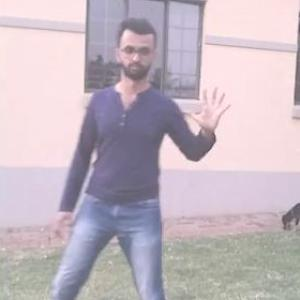follow_hand: (182, 84, 236, 134)
